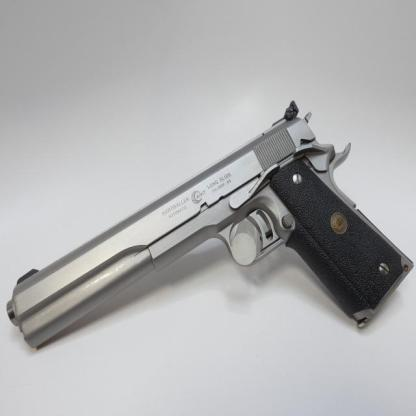handgun: (6, 94, 415, 351)
